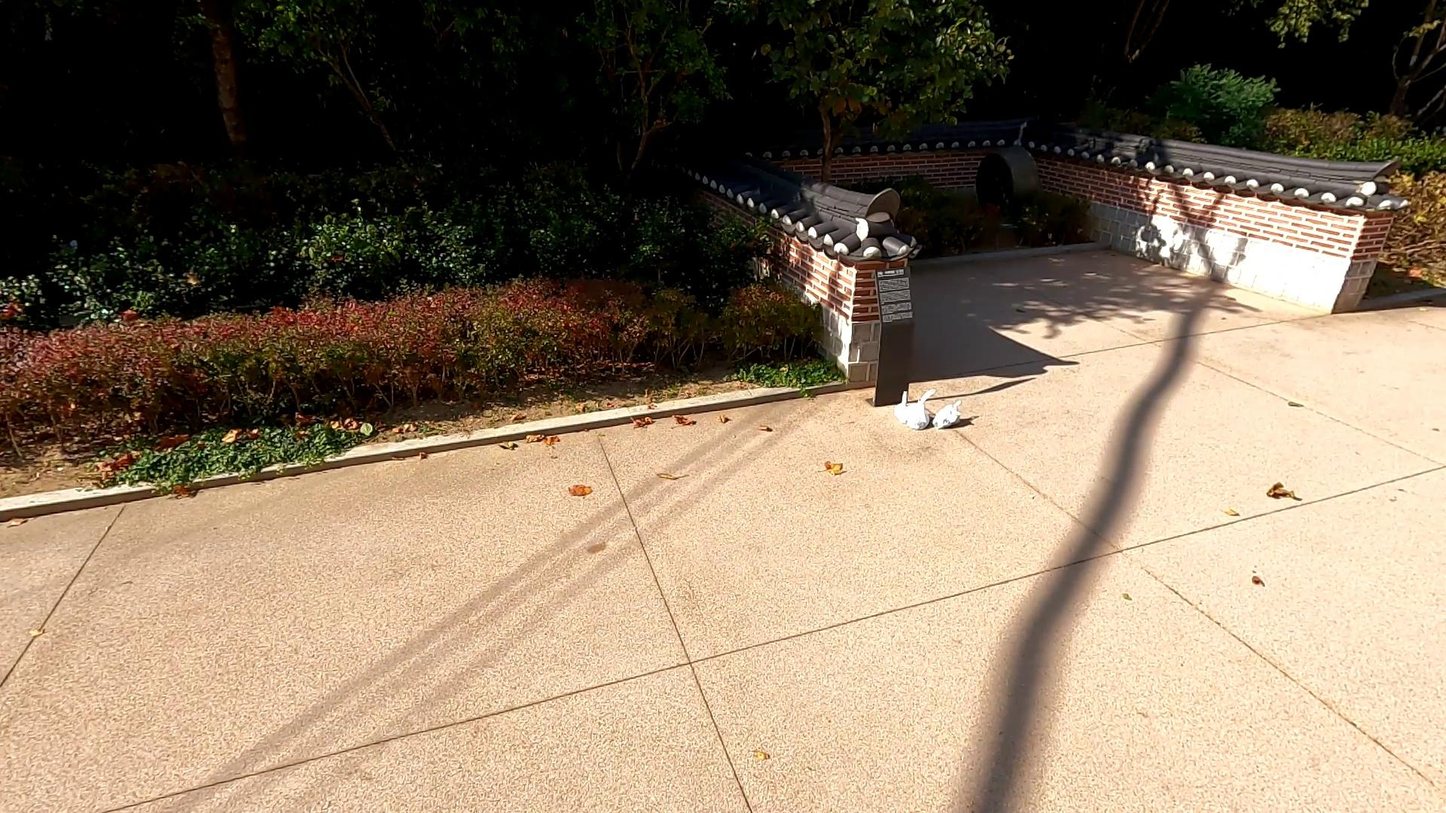trash: (897, 383, 941, 432), (888, 389, 920, 427), (929, 401, 968, 431)
